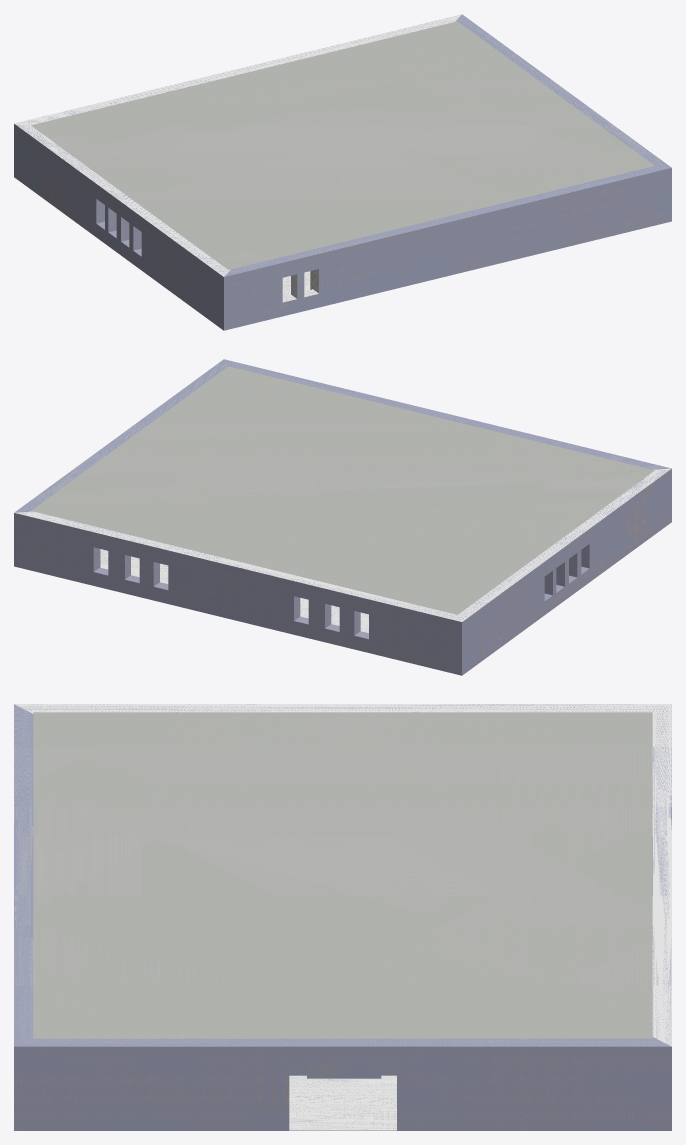
The model's file is Finale.fbx.
3 renders of one model, top to bottom at view 1: azimuth 30°, elevation 25°; view 2: azimuth 150°, elevation 25°; view 3: azimuth 270°, elevation 25°, orthographic. The views are drawn at different scales.
Parts seen in each view (by area): view 1: Model; view 2: Model; view 3: Model.
Part boxes in pixels (<box>): Model: <box>14,14,671,330</box>; Model: <box>14,359,671,675</box>; Model: <box>14,704,671,1130</box>.
Bounding box in the file's own units: 30580 × 3500 × 24810.
